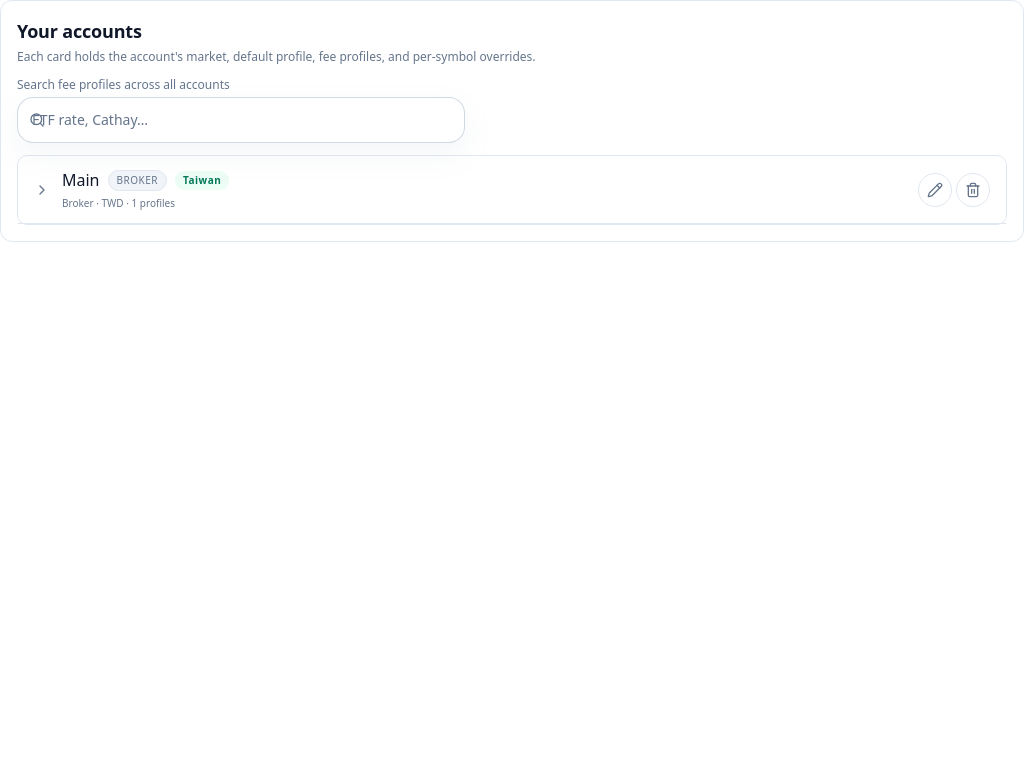
Test case: AccountsListSection — ui-enhancement deletion affordances (Item 1) › clicking Delete opens the soft-delete confirmation modal
This screenshot has width=1024, height=768.
Click the button named "Delete account".
click(973, 190)  # box [956,172,990,206]
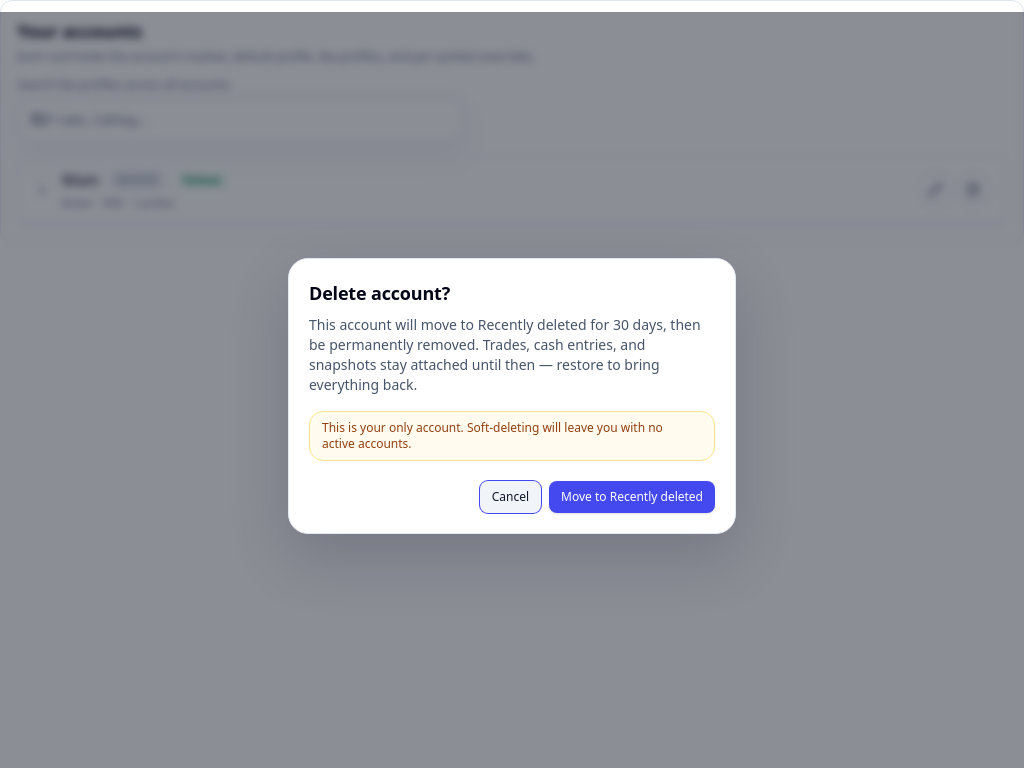
Result: the dialog with test id "account-soft-delete-modal" is shown at [288,258,736,534]
Result: the button with test id "account-soft-delete-confirm-btn" is shown at [549,481,715,513]
Result: the button with test id "account-soft-delete-cancel-btn" is shown at [480,481,541,513]
